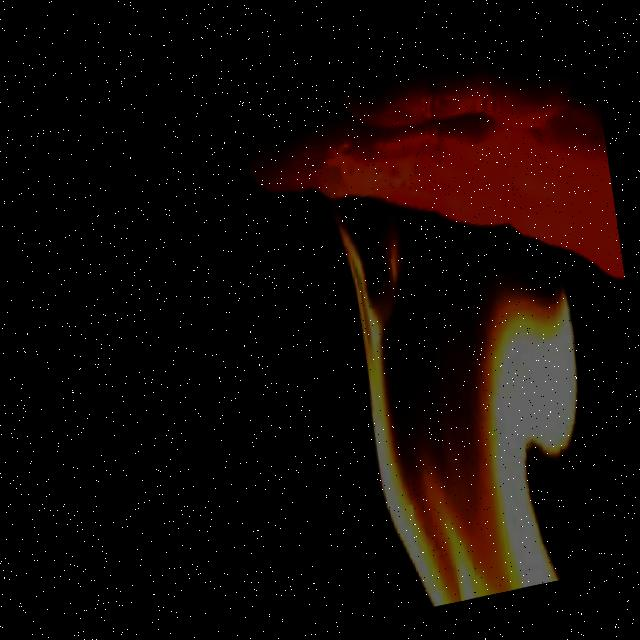Fire: (292, 106, 635, 623)
